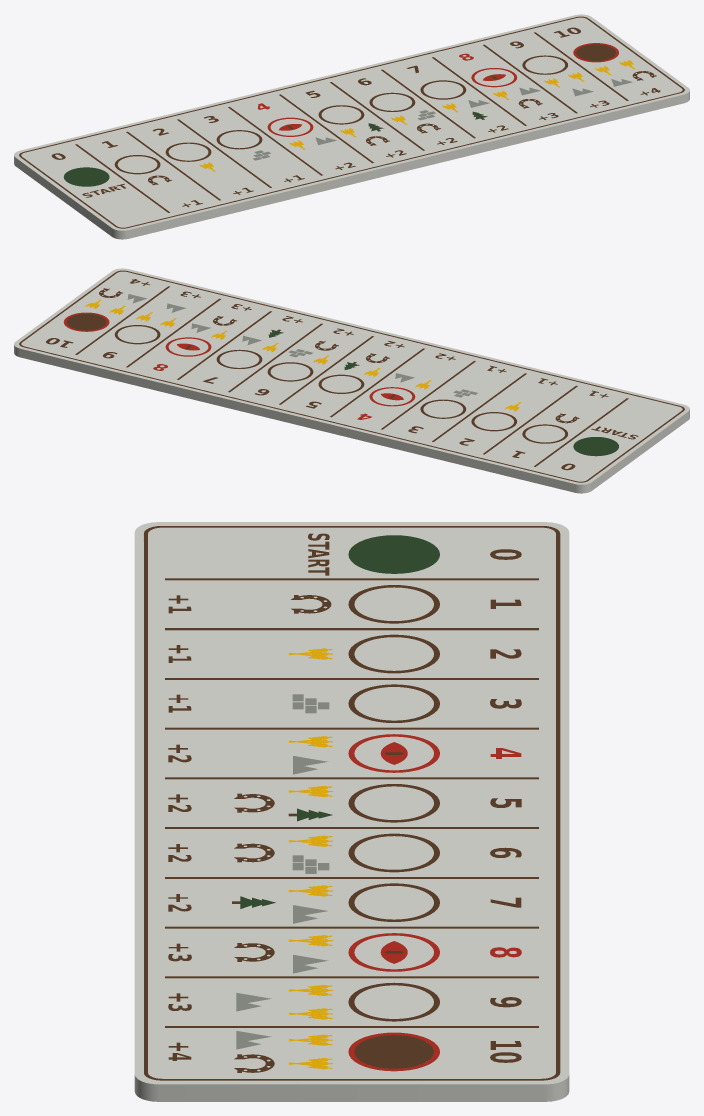
Rendered from reise_leiste_neutral.glb.
The picture shows the model from 3 angles, top to bottom: view 1: azimuth 30°, elevation 25°; view 2: azimuth 150°, elevation 25°; view 3: azimuth 270°, elevation 25°; orthographic projection. The views are drawn at different scales.
Visible parts, largest first — view 1: reise_leiste_neutral; view 2: reise_leiste_neutral; view 3: reise_leiste_neutral.
Boxes of the visible parts, x1,y1,x2,y2 form: reise_leiste_neutral: (14, 14, 689, 239); reise_leiste_neutral: (14, 268, 689, 493); reise_leiste_neutral: (134, 522, 569, 1101).
Bounding box in the file's own units: 220 × 3.2 × 72.01.
